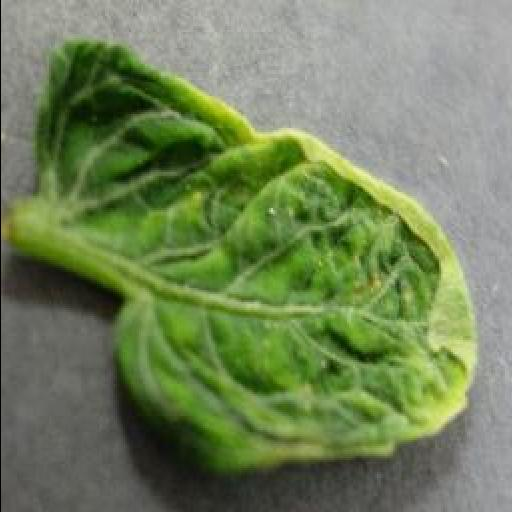disease_tomato: (28, 36, 478, 476)
